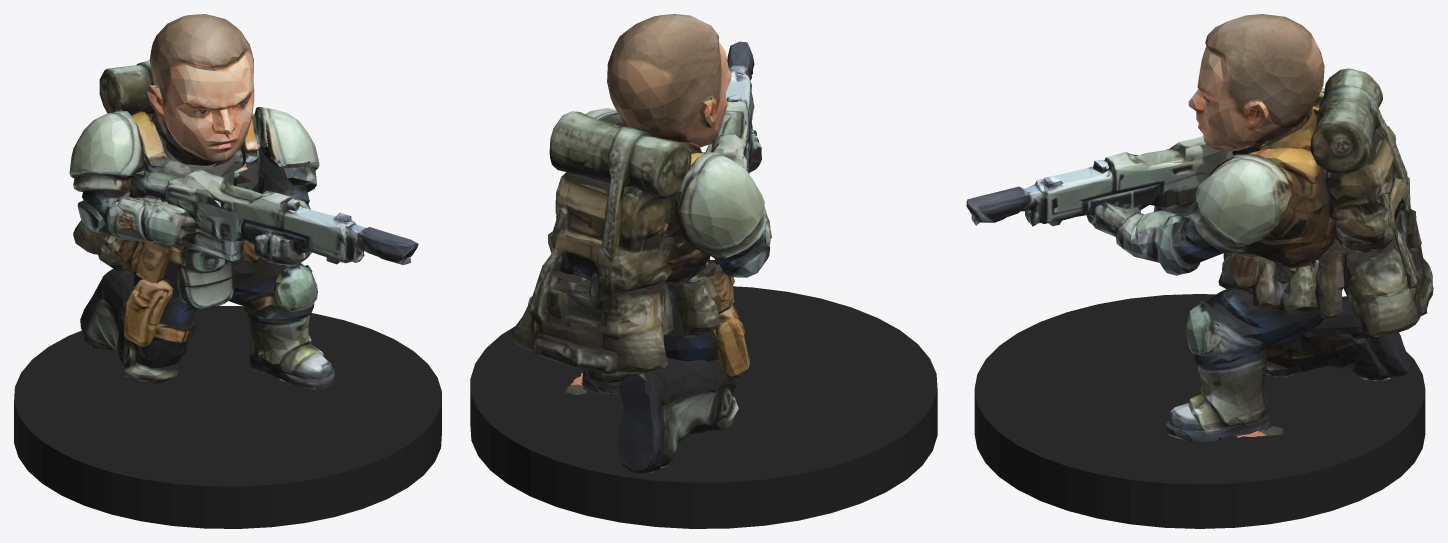
The model's file is ss-warrior-boltgun.glb.
3 views of the same model, side by side, from view 1: azimuth 30°, elevation 25°; view 2: azimuth 150°, elevation 25°; view 3: azimuth 270°, elevation 25° (orthographic). The views are drawn at different scales.
Parts seen in each view (by area): view 1: figure, base; view 2: figure, base; view 3: figure, base.
Part boxes in pixels (box(x1,y1,x2,y2)): figure: box(69, 14, 418, 389); base: box(14, 306, 441, 528); figure: box(511, 14, 771, 473); base: box(470, 286, 937, 528); figure: box(966, 14, 1433, 441); base: box(974, 294, 1425, 528).
Bounding box in the file's own units: 1.1 × 1.12 × 1.14.
Materials: 2 (1 with a texture image).
